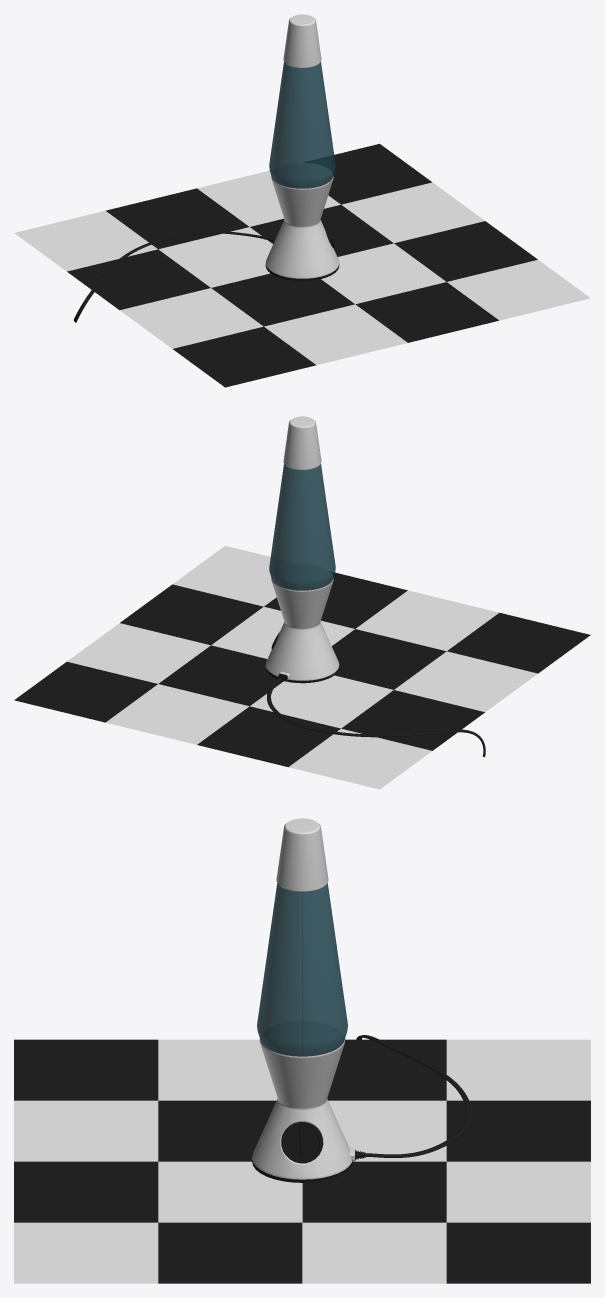
Rendered from LavaLamp.glb.
3 renders of one model, top to bottom at view 1: azimuth 30°, elevation 25°; view 2: azimuth 150°, elevation 25°; view 3: azimuth 270°, elevation 25°, orthographic. The views are drawn at different scales.
Visible parts, largest first — view 1: Plane, Plane.001, Main_Body, Glass, Cable; view 2: Plane.001, Plane, Main_Body, Glass, Cable; view 3: Plane, Plane.001, Glass, Main_Body, Knob, Cable.
Boxes of the visible parts, x1,y1,x2,y2 form: Plane: [14, 170, 590, 365]; Plane.001: [67, 143, 537, 387]; Main_Body: [265, 14, 339, 281]; Glass: [269, 62, 335, 188]; Cable: [73, 231, 274, 322]; Plane.001: [14, 572, 590, 767]; Plane: [67, 545, 537, 789]; Main_Body: [265, 416, 339, 683]; Glass: [269, 464, 335, 590]; Cable: [267, 678, 485, 757]; Plane: [14, 1039, 590, 1283]; Plane.001: [14, 1039, 590, 1283]; Glass: [257, 883, 347, 1056]; Main_Body: [252, 818, 352, 1182]; Knob: [281, 1122, 323, 1163]; Cable: [356, 1035, 471, 1157].
Size of the model in its own units: 12.15 by 8.07 by 11.45.
